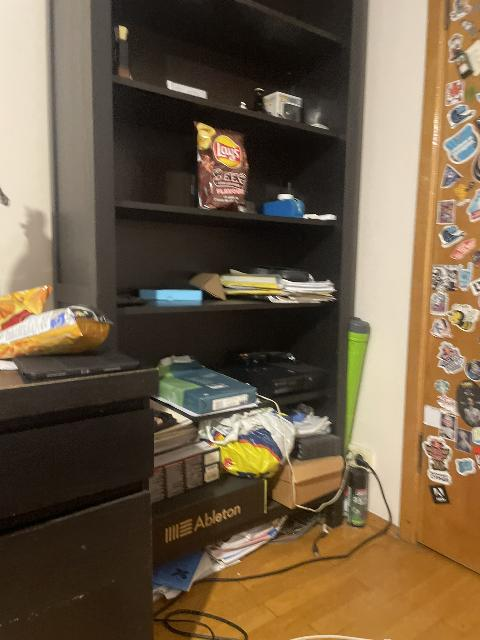Chio Cascaval 125g: (0, 284, 53, 332)
Chio Hula Hoops Cheese 70g: (0, 302, 85, 360)
Lays Beef Grilled Ribs 125g: (194, 122, 252, 212)
